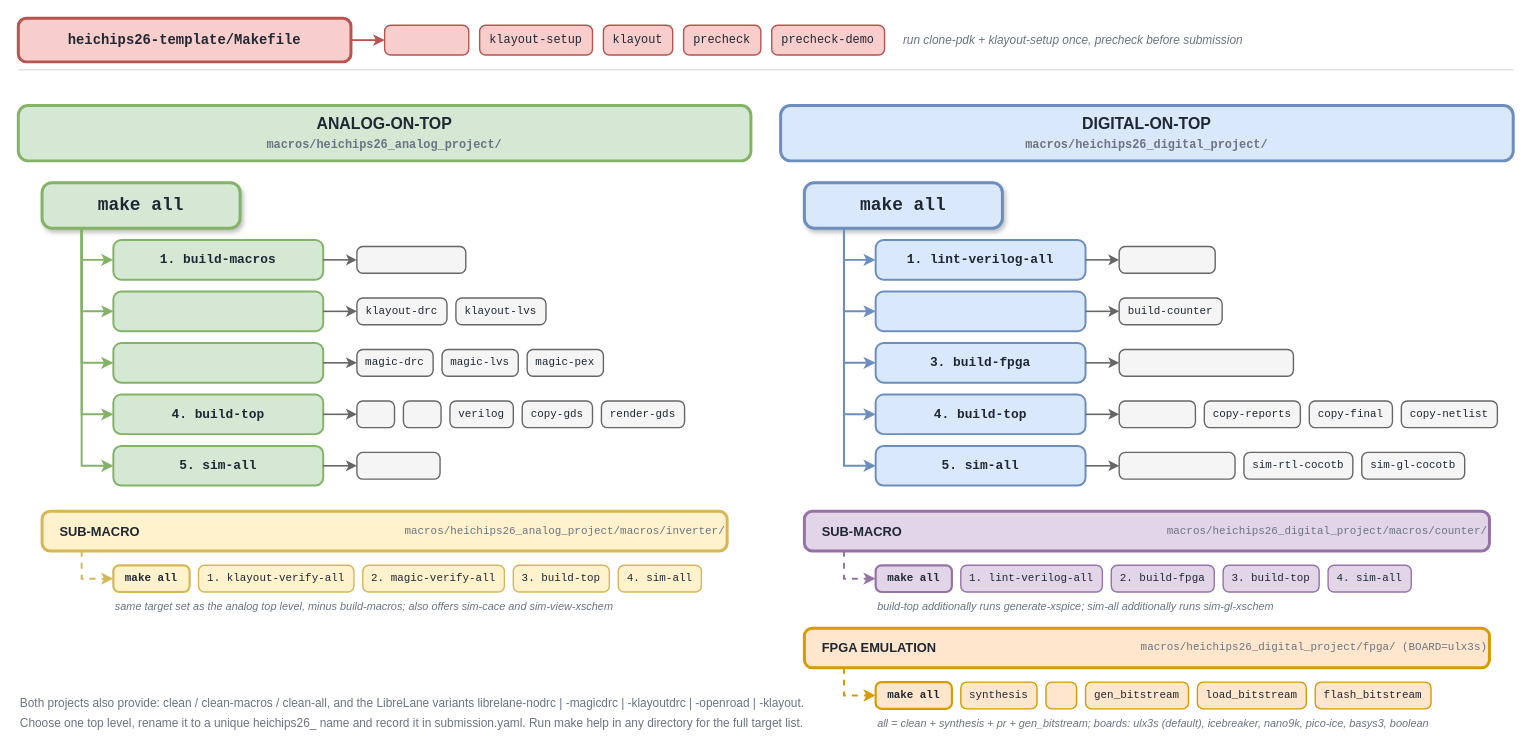
This 1533x750 diagram has some shape labels left out. Each missing label, with the centre of its shape:
"2. build-macros" belongs at (980,311).
"2. klayout-verify-all" belongs at (218,311).
"3. magic-verify-all" belongs at (218,362).
"build-inverter" belongs at (411,259).
"clone-pdk" belongs at (426,39).
"fpga/ -> design/$(BOARD)" belongs at (1206,362).
"lef" belongs at (375,414).
"lib" belongs at (421,414).
"librelane" belongs at (1157,414).
"lint-verilog" belongs at (1166,259).
"pr" belongs at (1061,695).
"sim-rtl-verilog" belongs at (1176,465).
"sim-xschem" belongs at (398,465).
